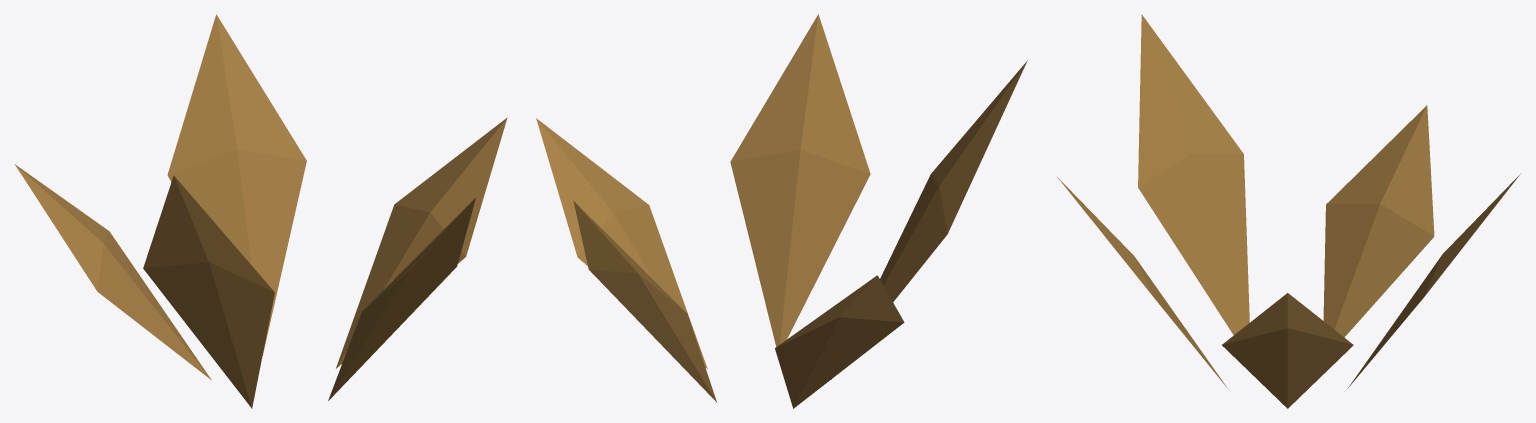
3 renders of one model, left to right at view 1: azimuth 30°, elevation 25°; view 2: azimuth 150°, elevation 25°; view 3: azimuth 270°, elevation 25°, orthographic. The views are drawn at different scales.
Visible parts, largest first — view 1: V01_枯金草簇; view 2: V01_枯金草簇; view 3: V01_枯金草簇.
Boxes of the visible parts, bbox=[...] form: V01_枯金草簇: bbox=[14, 14, 507, 408]; V01_枯金草簇: bbox=[536, 14, 1027, 408]; V01_枯金草簇: bbox=[1057, 14, 1520, 408].
Size of the model in its own units: 0.4369 by 0.3108 by 0.4579.
